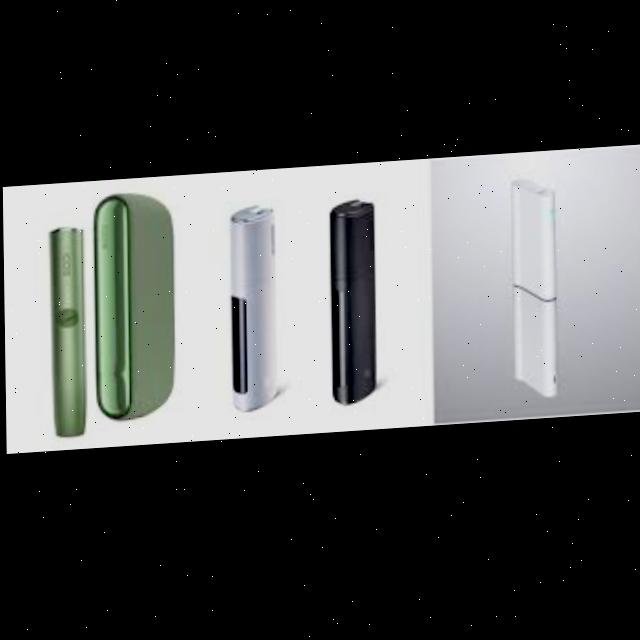vape: (93, 190, 174, 424), (509, 185, 556, 405), (329, 203, 376, 411), (229, 209, 276, 415), (48, 224, 86, 437)
